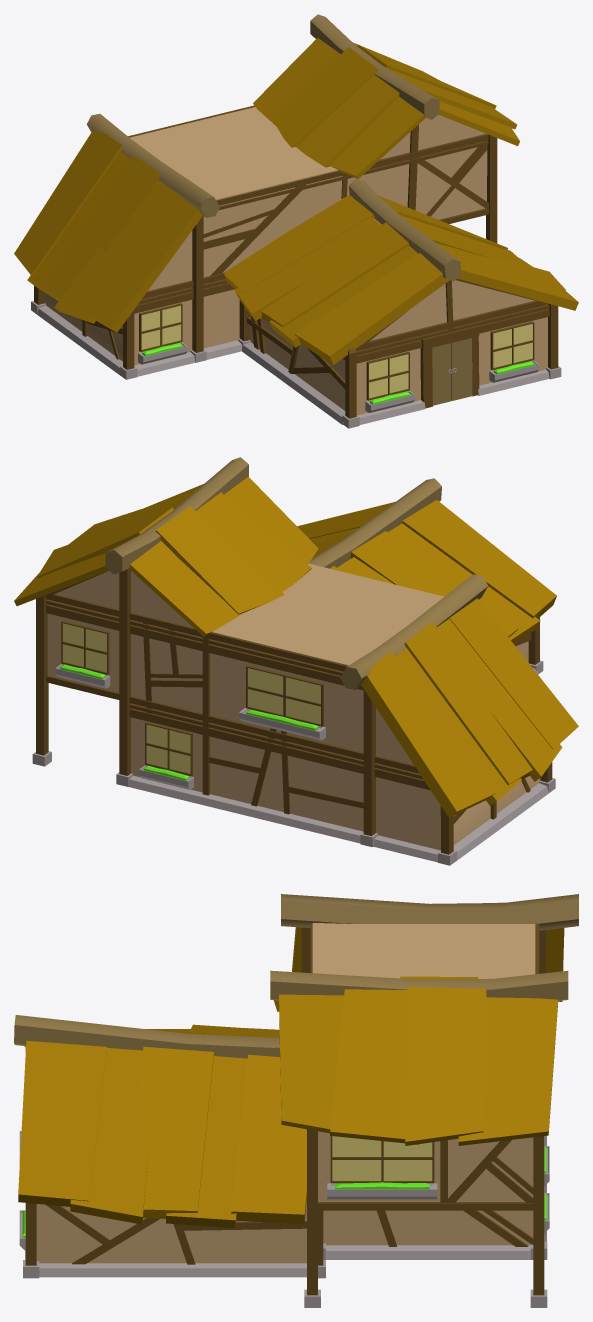
Rendered from mesh_House_5.fbx.
3 views of the same model, one above another, from view 1: azimuth 30°, elevation 25°; view 2: azimuth 150°, elevation 25°; view 3: azimuth 270°, elevation 25° (orthographic). The views are drawn at different scales.
Parts seen in each view (by area): view 1: House_5; view 2: House_5; view 3: House_5.
Boxes of the visible parts, x1,y1,x2,y2 form: House_5: [14, 14, 578, 428]; House_5: [14, 457, 578, 865]; House_5: [14, 894, 578, 1307].
Size of the model in its own units: 1840 by 873 by 1563.
1 material, 1 textured.
